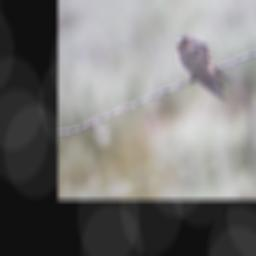Swallow: (173, 22, 235, 112)
